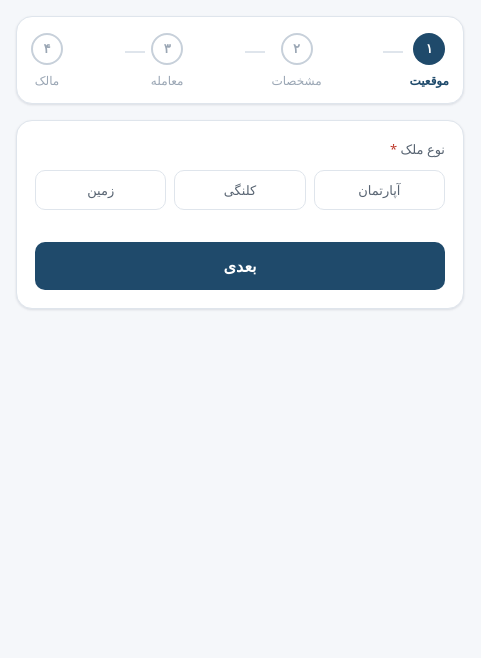
Test case: AddFileScreen wizard › does not show floor/unit for kalnagi type
Click the button "کلنگی" at (240, 190), box [174,170,306,210]
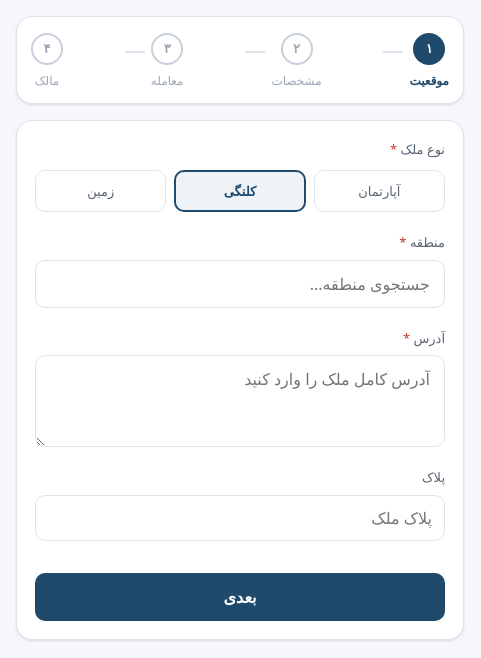
expect the text "پلاک" is shown: met, box [422,468,445,486]
